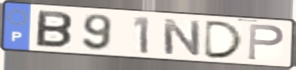1: (133, 16, 152, 55)
9: (80, 12, 113, 52)
B: (33, 9, 74, 50)
D: (202, 20, 246, 60)
N: (161, 17, 203, 58)
P: (246, 22, 286, 62)
